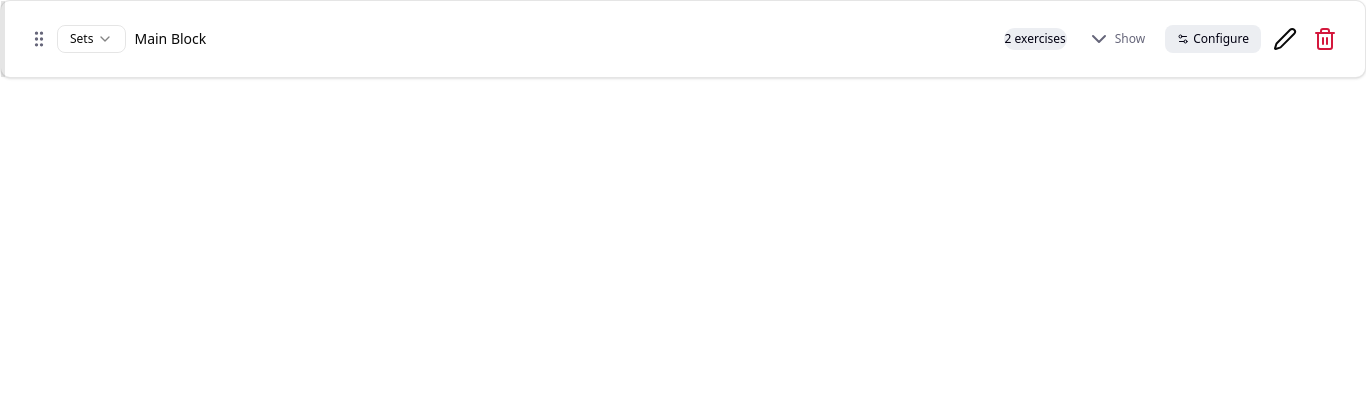
SortableBlock › renders exercises within the block when expanded
// Block starts collapsed — click the collapse toggle to expand
Click the button titled "Expand exercises". click: (1116, 39)
box: [1075,25,1157,53]
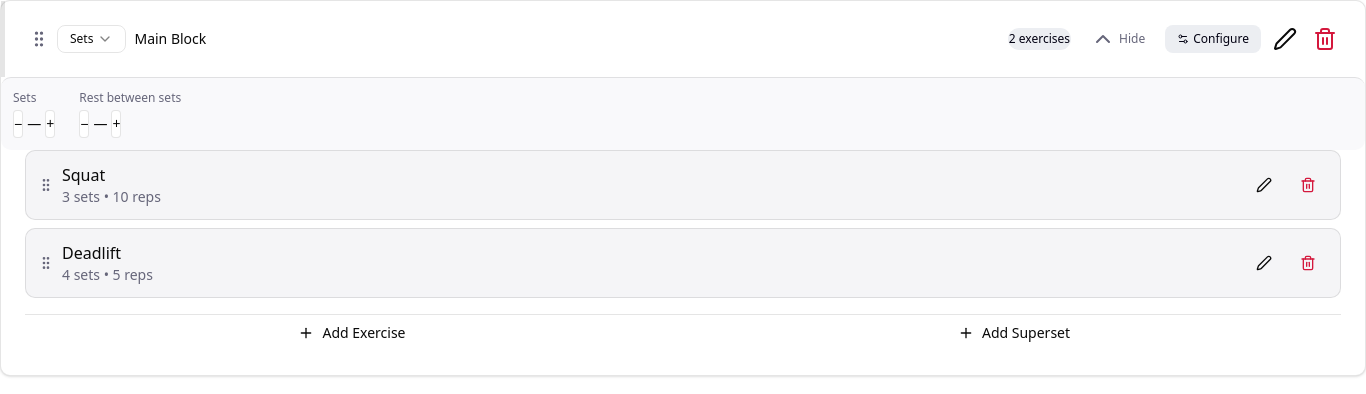
expect the text "Squat" is shown: met, box [62,164,105,186]
expect the text "Deadlift" is shown: met, box [62,242,121,264]
